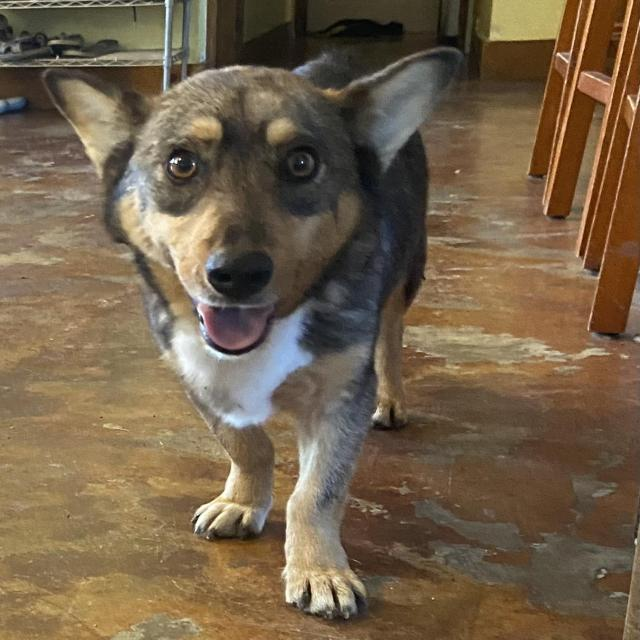corgi_dog: (41, 41, 473, 372)
